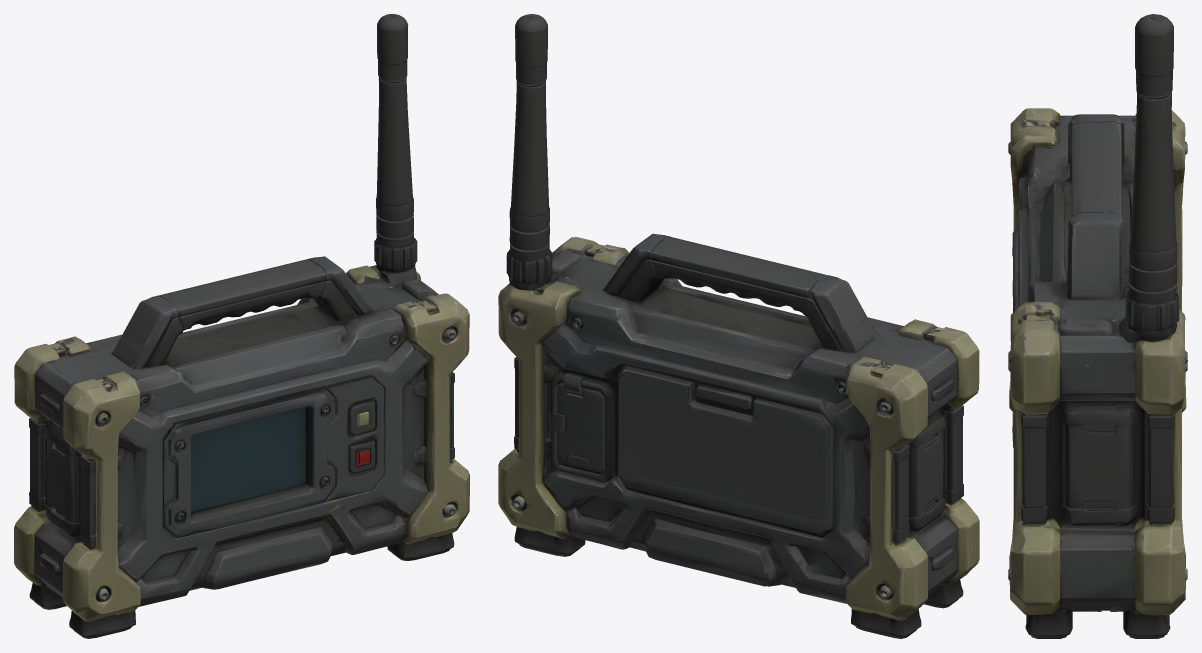
Rendered from Asset_02_LOD0.fbx.
The picture shows the model from 3 angles, left to right: view 1: azimuth 30°, elevation 25°; view 2: azimuth 150°, elevation 25°; view 3: azimuth 270°, elevation 25°; orthographic projection. The views are drawn at different scales.
Visible parts, largest first — view 1: Asset_02_LOD0; view 2: Asset_02_LOD0; view 3: Asset_02_LOD0.
Boxes of the visible parts, x1,y1,x2,y2 form: Asset_02_LOD0: (14, 14, 469, 638); Asset_02_LOD0: (498, 14, 979, 638); Asset_02_LOD0: (1008, 14, 1187, 638).
Bounding box in the file's own units: 0.3488 × 0.4199 × 0.1112.
Materials: 1 (1 with a texture image).
